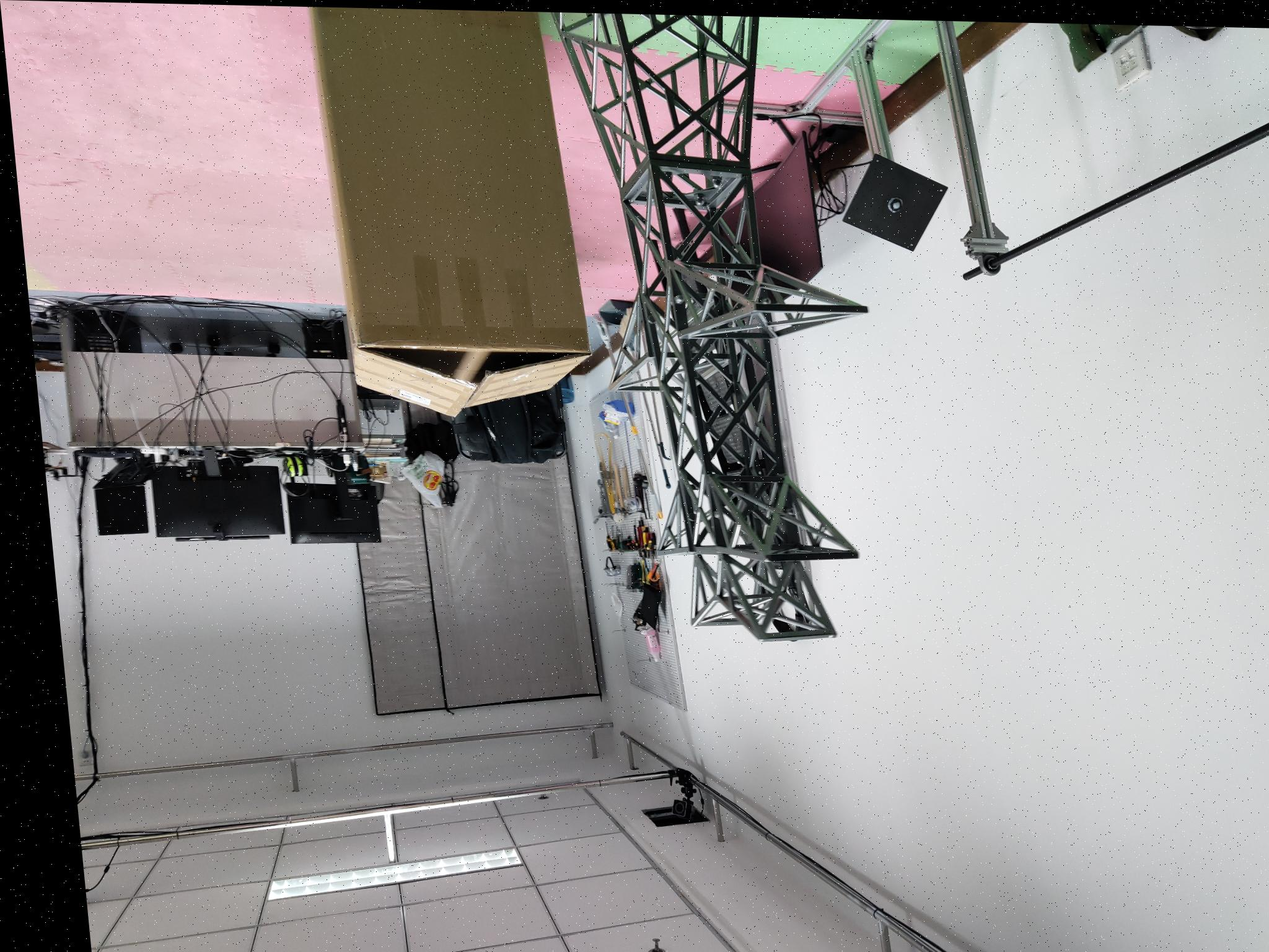tower: (565, 13, 893, 646)
